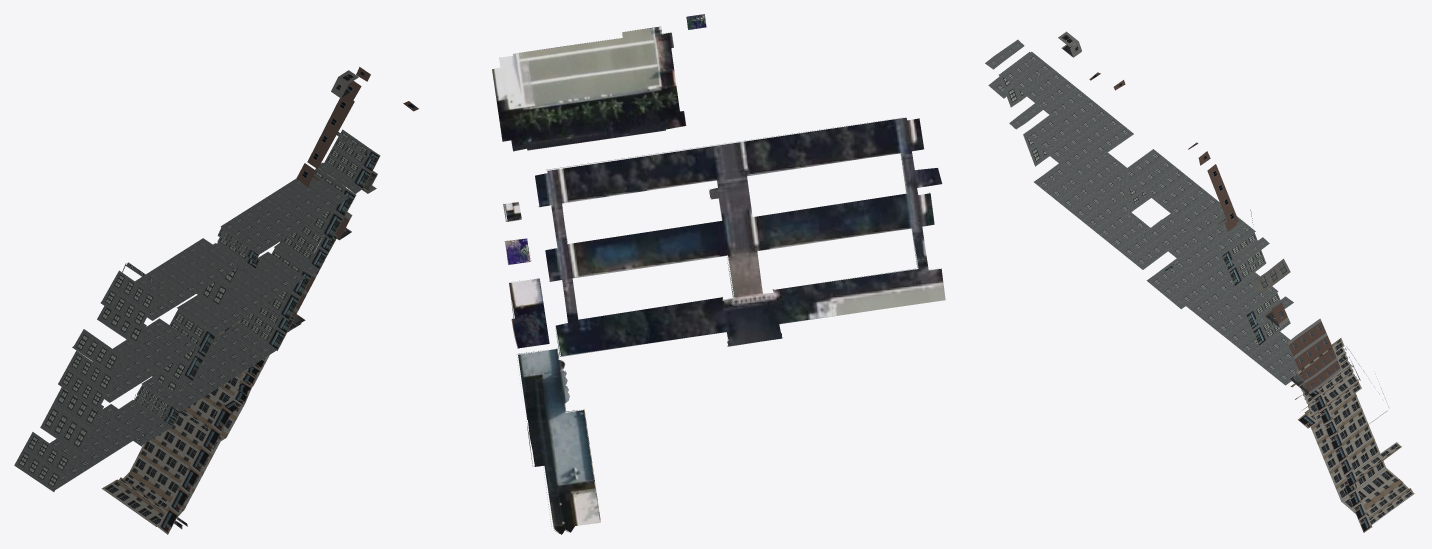
File: tile_LOD4_r3_c6.glb
3 views of the same model, side by side, from view 1: azimuth 30°, elevation 25°; view 2: azimuth 150°, elevation 25°; view 3: azimuth 270°, elevation 25° (orthographic). The views are drawn at different scales.
Size of the model in its own units: 149 by 157 by 128.
Materials: 28 (28 with a texture image).
